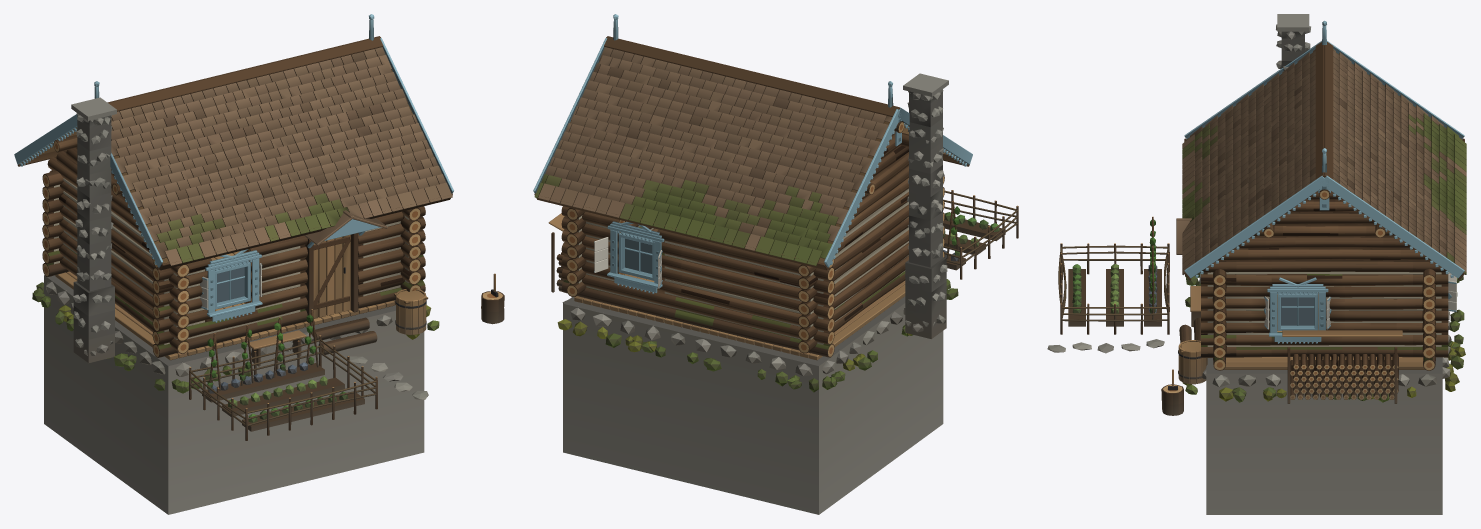
3 renders of one model, left to right at view 1: azimuth 30°, elevation 25°; view 2: azimuth 150°, elevation 25°; view 3: azimuth 270°, elevation 25°, orthographic. The views are drawn at different scales.
Parts seen in each view (by area): view 1: stone-plinth-001, shingle-003, shingle-002, shingle-001, thatch-herbs-001, wood-fence-004, dark-003, plank-door-004, plank-trim-005, plank-001, plank-barge-002, stone-found-004 (+44 smaller); view 2: stone-plinth-001, shingle-006, shingle-005, shingle-004, stone-found-003, dark-003, log-008, log-003, plank-001, plank-trim-011, plank-barge-002, log-030 (+31 smaller); view 3: stone-plinth-001, shingle-006, shingle-003, shingle-005, shingle-002, shingle-004, shingle-001, wood-pile-003, plank-barge-003, log-053, thatch-herbs-001, wood-fence-004 (+30 smaller).
Part boxes in pixels (x1,y1,x2,y2): stone-plinth-001: (44, 275, 424, 514); shingle-003: (139, 140, 452, 265); shingle-002: (114, 89, 425, 213); shingle-001: (111, 47, 400, 162); thatch-herbs-001: (202, 362, 364, 431); wood-fence-004: (189, 335, 377, 440); dark-003: (107, 36, 383, 111); plank-door-004: (313, 235, 350, 318); plank-trim-005: (205, 249, 262, 322); plank-001: (55, 251, 395, 360); plank-barge-002: (14, 114, 162, 267); stone-found-004: (32, 280, 165, 390); stone-plinth-001: (563, 296, 943, 514); shingle-006: (534, 140, 848, 265); shingle-005: (561, 89, 872, 212); shingle-004: (585, 47, 892, 161); stone-found-003: (557, 306, 818, 392); dark-003: (604, 36, 900, 116); log-008: (561, 267, 834, 344); log-003: (561, 280, 834, 357); plank-001: (574, 274, 905, 360); plank-trim-011: (607, 221, 664, 293); plank-barge-002: (824, 107, 972, 267); log-030: (662, 253, 834, 306); stone-plinth-001: (1206, 357, 1442, 514); shingle-006: (1416, 105, 1466, 274); shingle-003: (1182, 105, 1233, 274); shingle-005: (1369, 73, 1415, 236); shingle-002: (1233, 73, 1279, 236); shingle-004: (1333, 49, 1369, 204); shingle-001: (1279, 49, 1324, 204); wood-pile-003: (1290, 354, 1398, 399); plank-barge-003: (1184, 175, 1464, 278); log-053: (1202, 259, 1446, 274); thatch-herbs-001: (1068, 264, 1161, 326); wood-fence-004: (1058, 243, 1169, 334).
Size of the model in its own units: 8.94 by 9.19 by 9.41.
